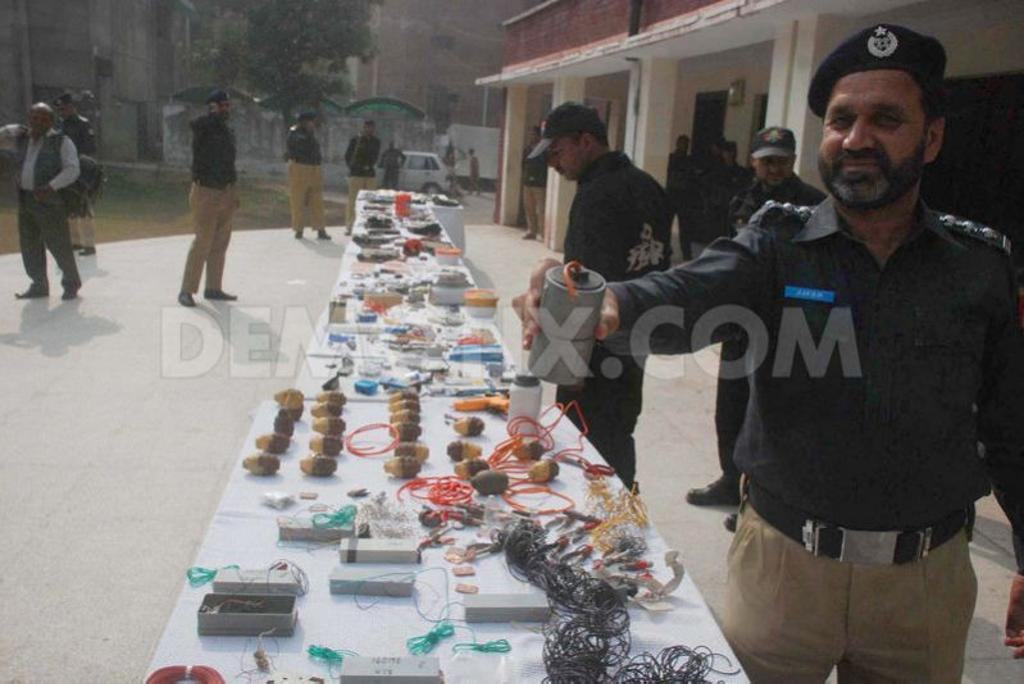face: (818, 70, 926, 205), (546, 136, 583, 181), (756, 156, 791, 187), (31, 113, 50, 133), (218, 101, 231, 117), (57, 105, 69, 121), (712, 144, 722, 158), (723, 150, 735, 161), (305, 119, 314, 130), (365, 124, 373, 135), (680, 140, 688, 151), (529, 135, 538, 142)
